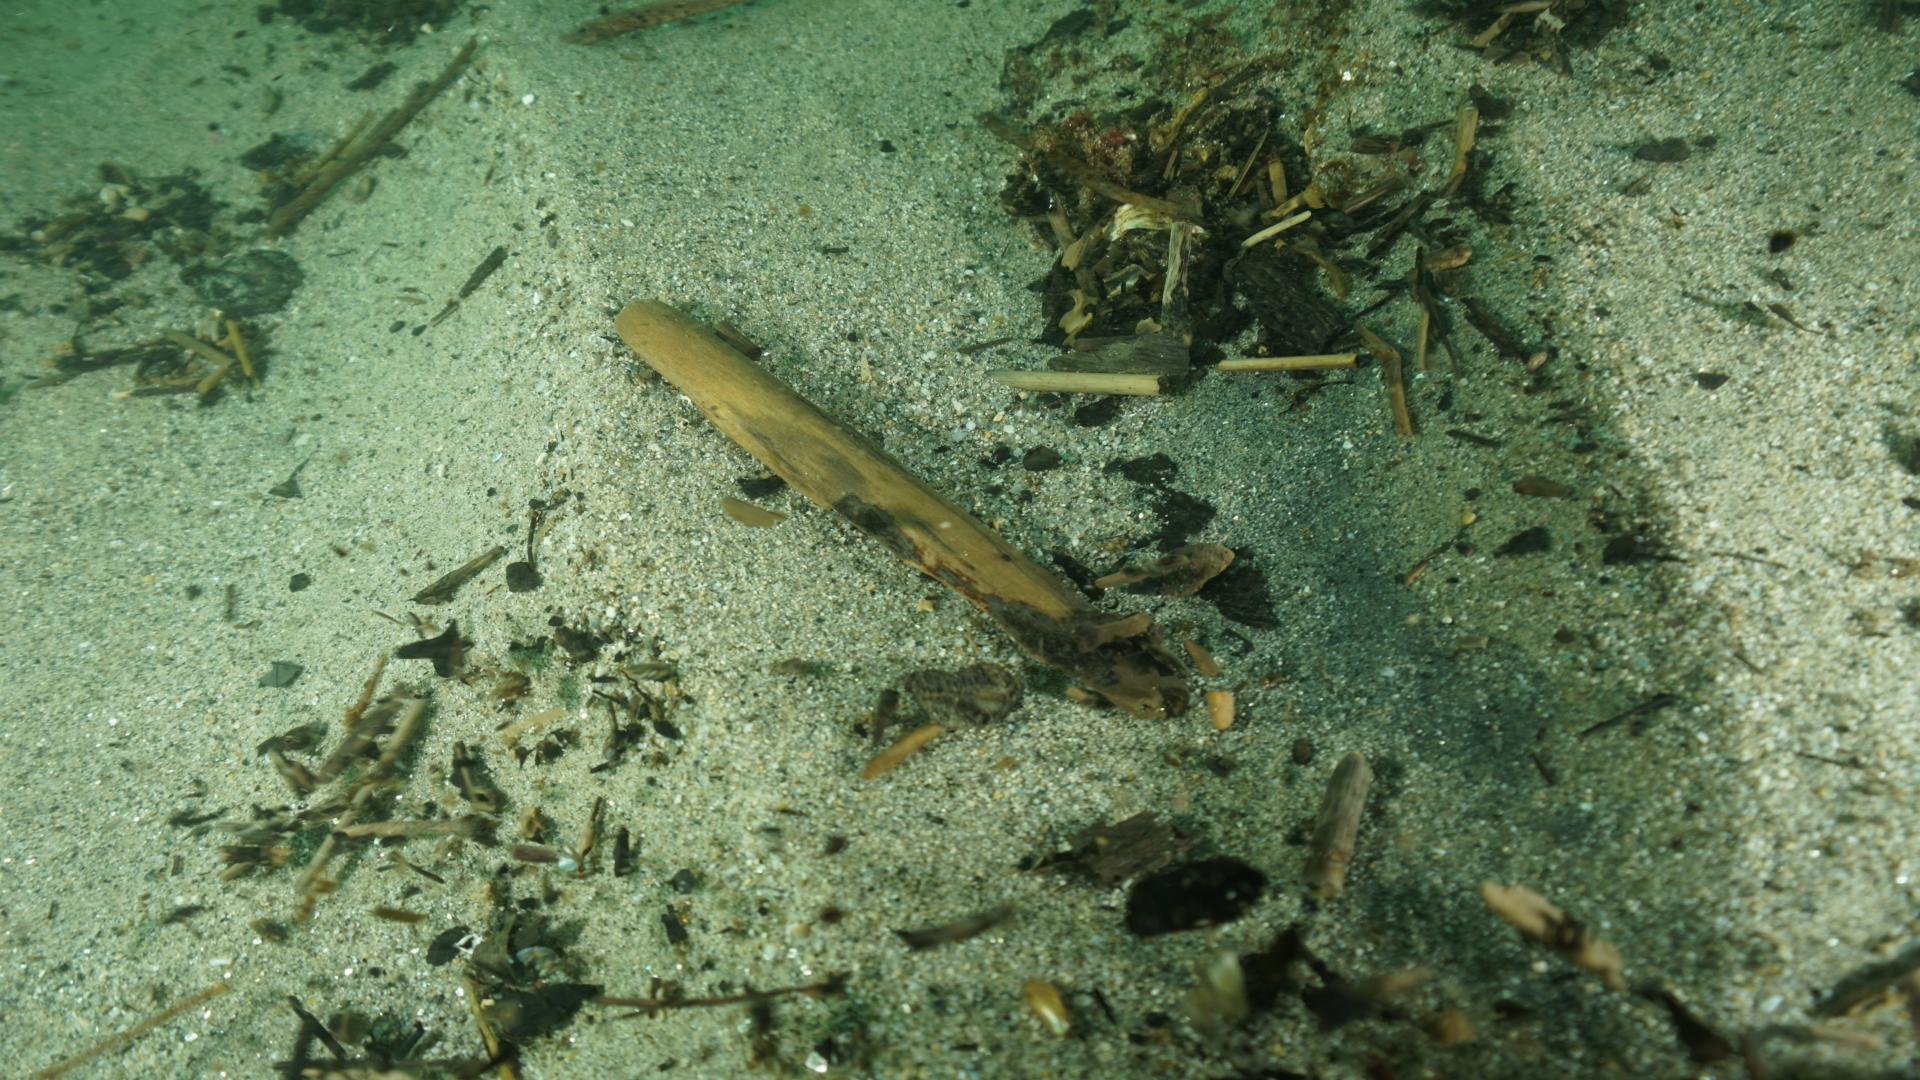wood: (611, 297, 1193, 721)
